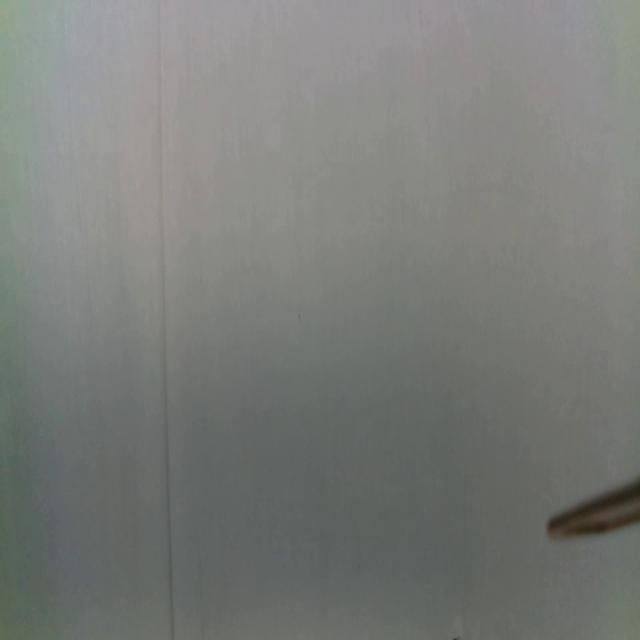crease: (157, 1, 175, 640)
